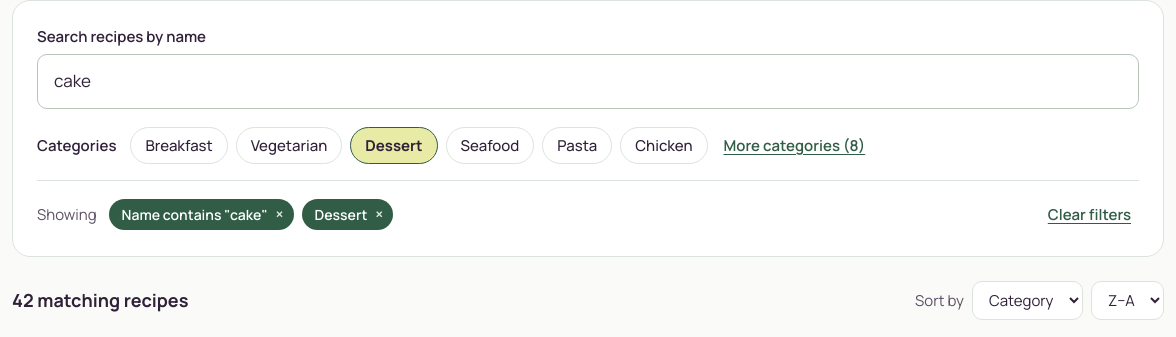
Test case: DiscoveryToolbar active filters › clears query and categories but keeps sort and from
Click the button "Clear filters": (1089, 214) [1040,197,1139,232]
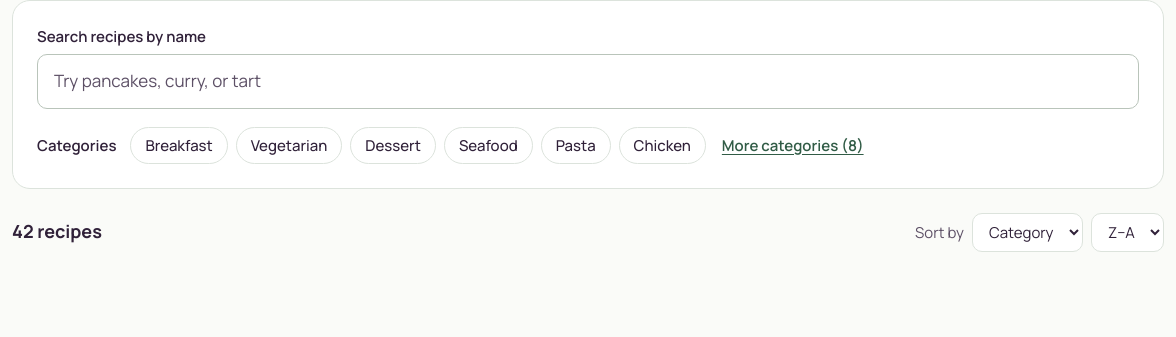
Expected: the search field labelled "Search recipes by name" is empty, [37,54,1139,109]
